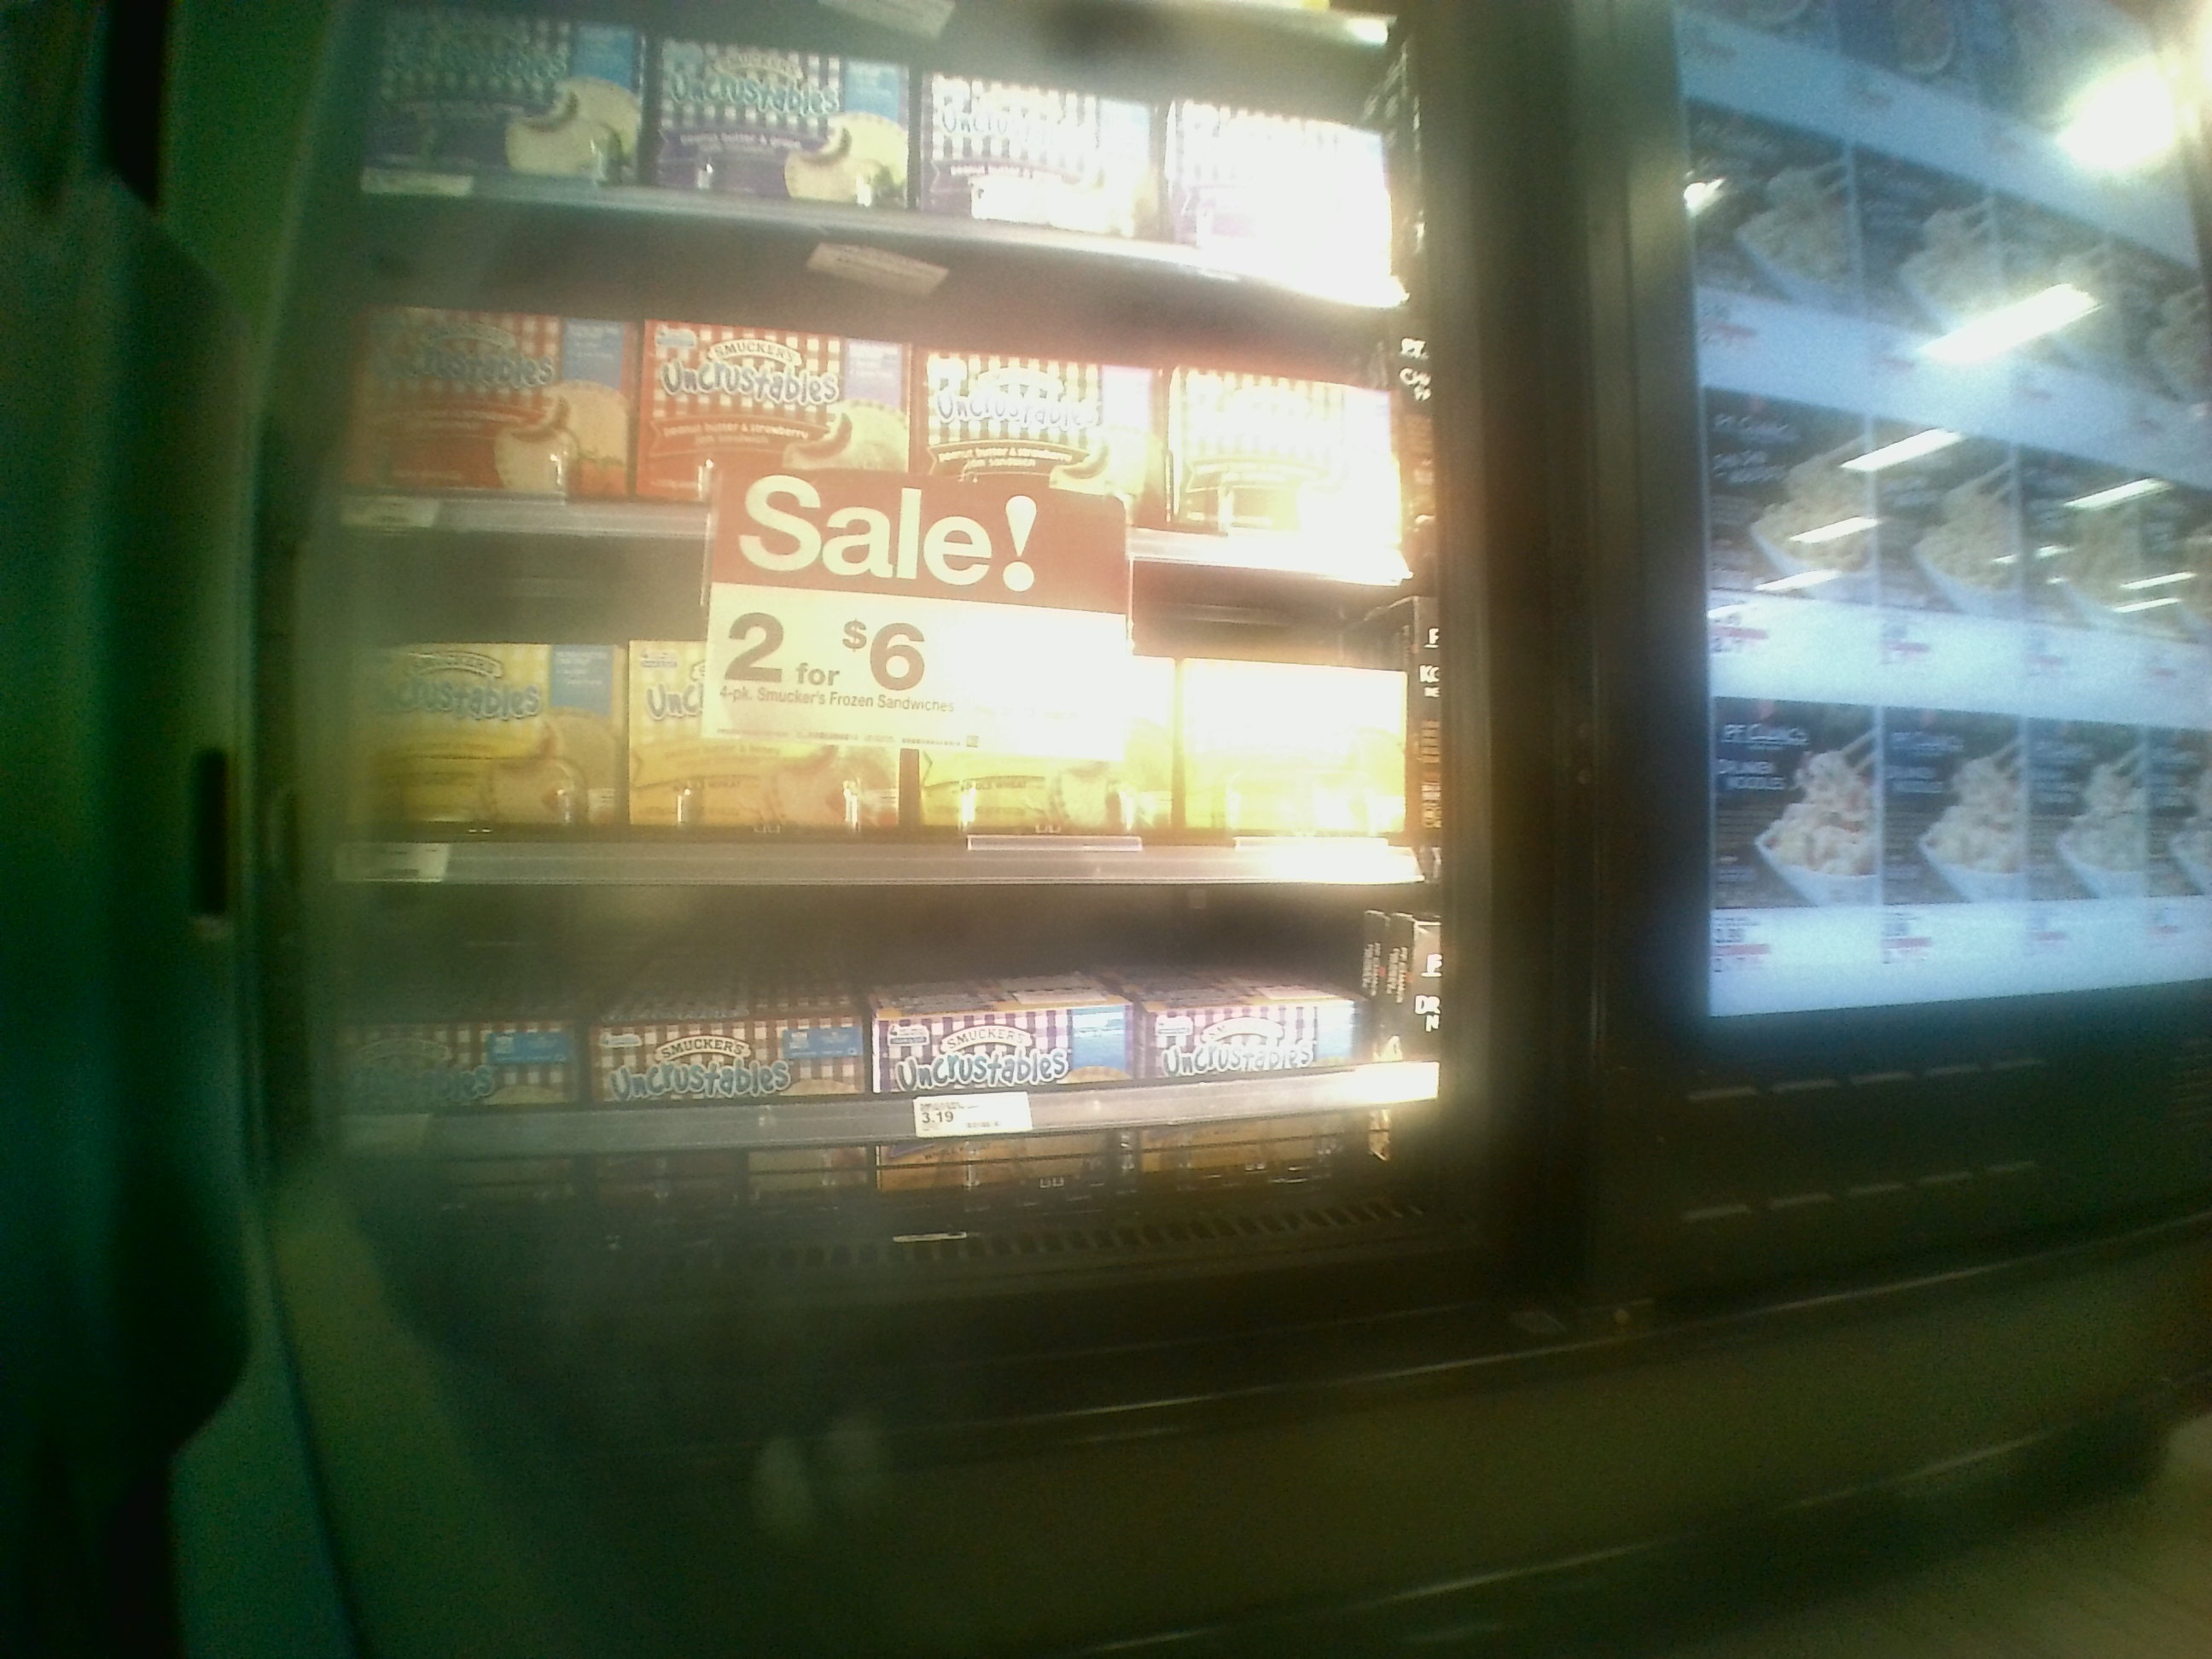shelf: (247, 899, 1496, 1255), (308, 204, 1442, 586), (280, 544, 1426, 899)
